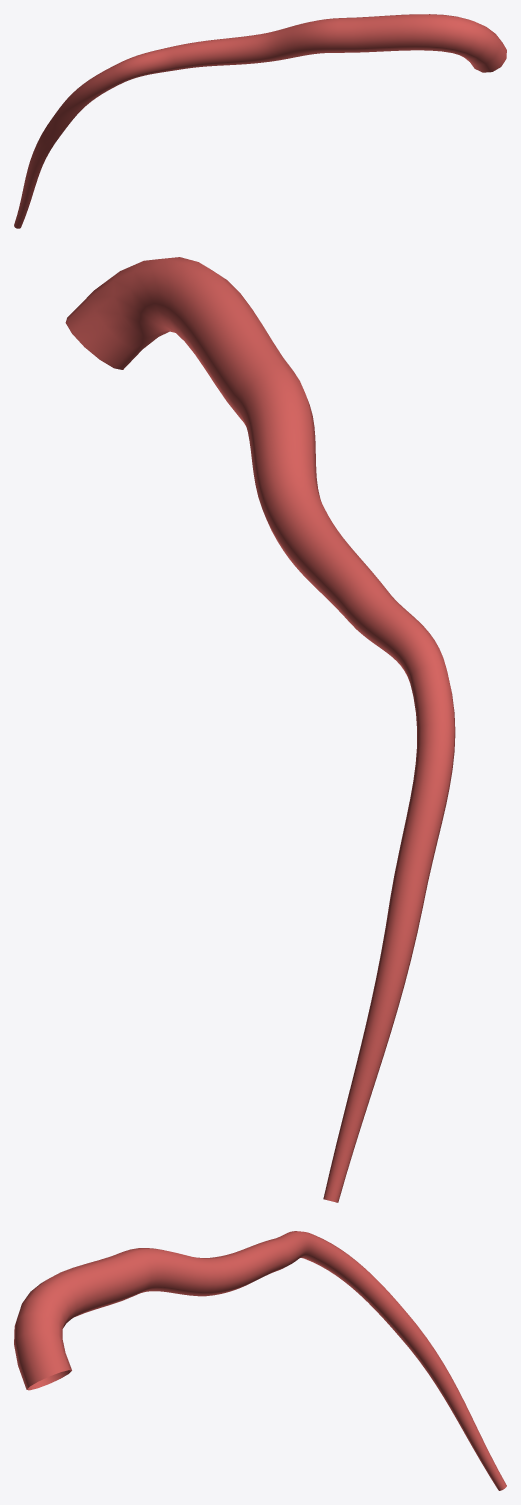
The picture shows the model from 3 angles, top to bottom: view 1: azimuth 30°, elevation 25°; view 2: azimuth 150°, elevation 25°; view 3: azimuth 270°, elevation 25°; orthographic projection. The views are drawn at different scales.
Parts seen in each view (by area): view 1: 右侧膝上外侧动脉; view 2: 右侧膝上外侧动脉; view 3: 右侧膝上外侧动脉.
Part boxes in pixels (<box>): 右侧膝上外侧动脉: <box>14,14,506,228</box>; 右侧膝上外侧动脉: <box>65,257,455,1202</box>; 右侧膝上外侧动脉: <box>14,1231,506,1490</box>.
Size of the model in its own units: 0.07 by 0.059 by 0.0732.
